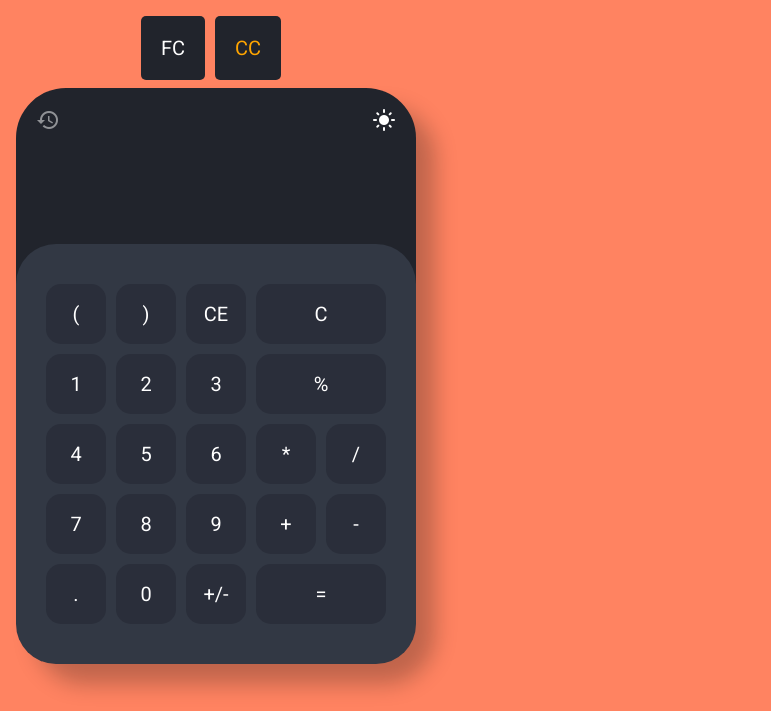
Test case: History › FC should show history by click on the button
The image size is (771, 711).
Click the element with test id "show_history" at (48, 120), box [36,108,60,132]
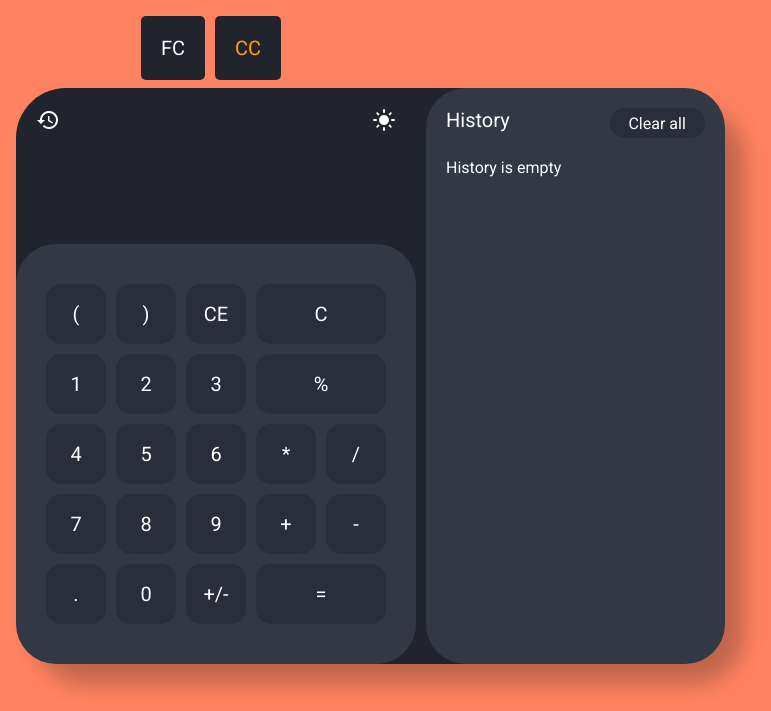
Check: the element with test id "history" is shown, box [426,88,725,664]
